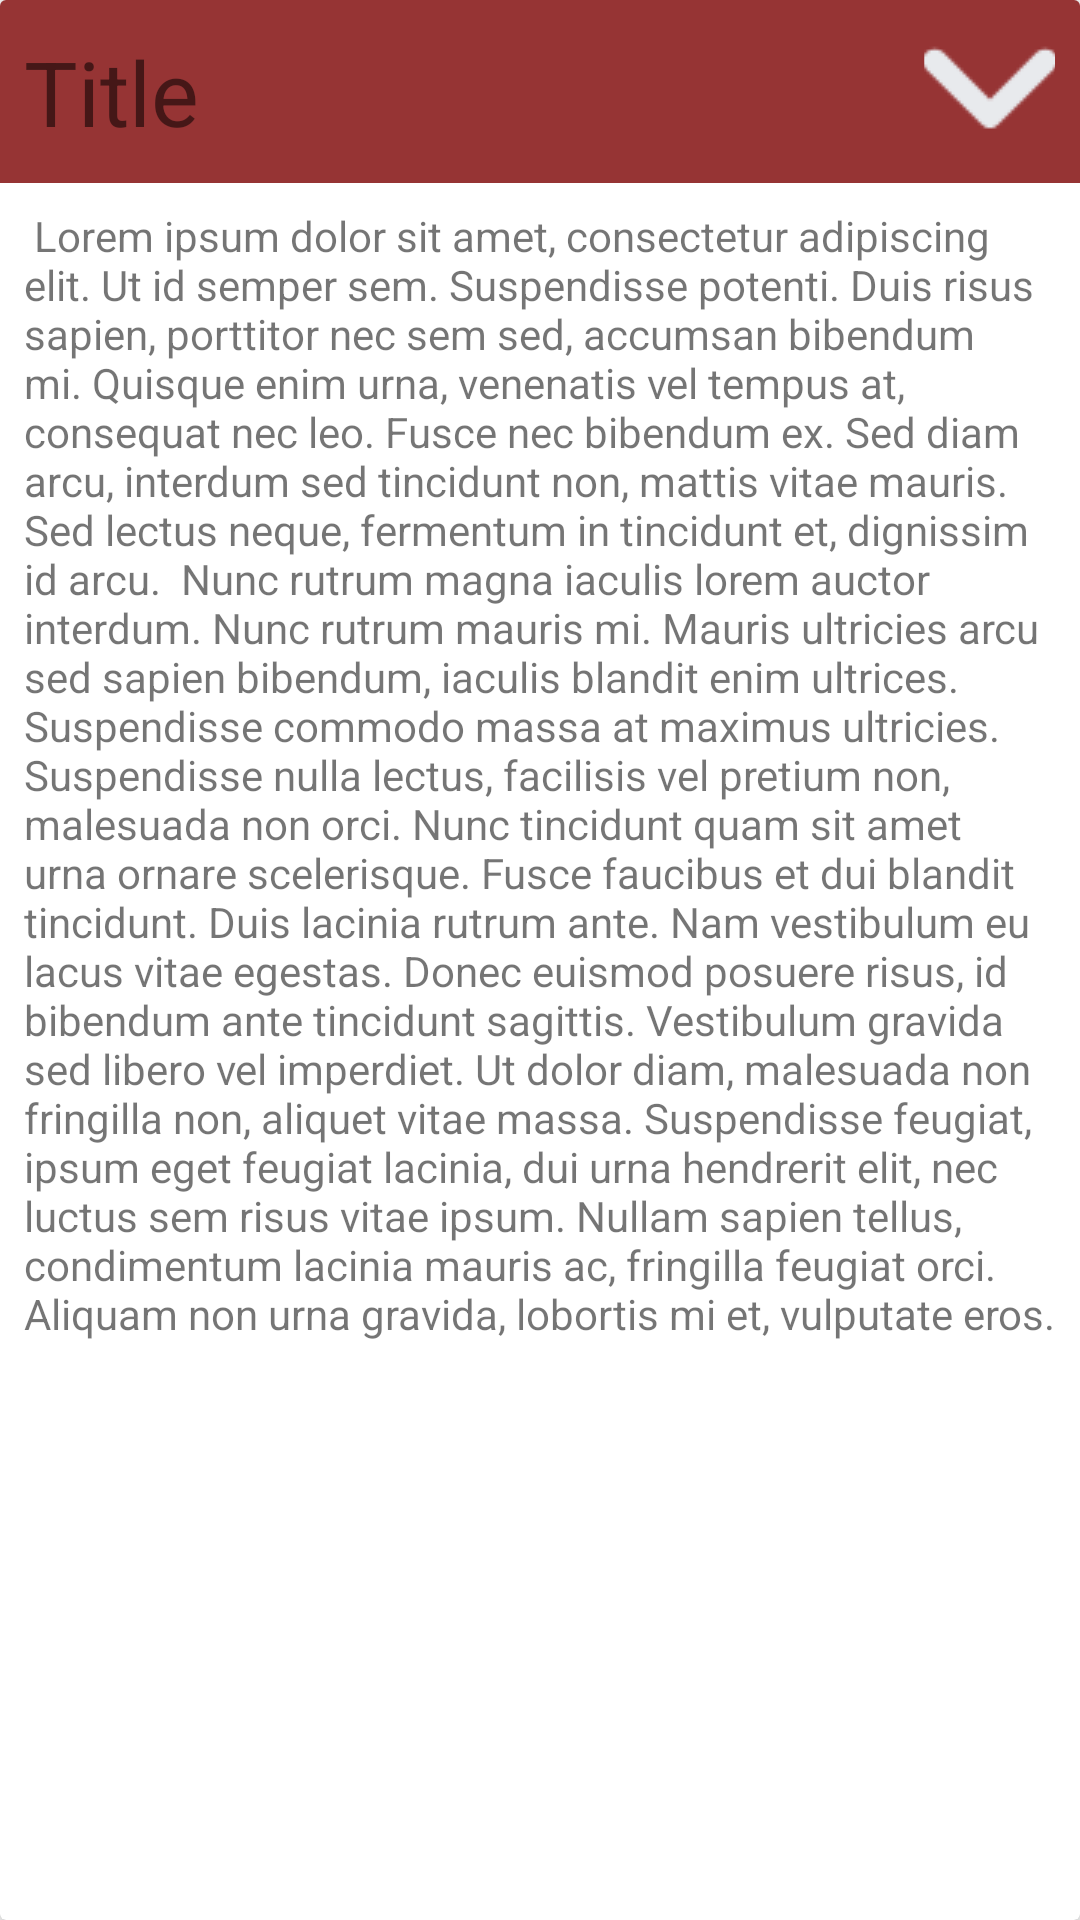

Screen size 1080 × 1920. Icon name, then its center in pixels as [x,y]:
arrow drop down: [989,88]
